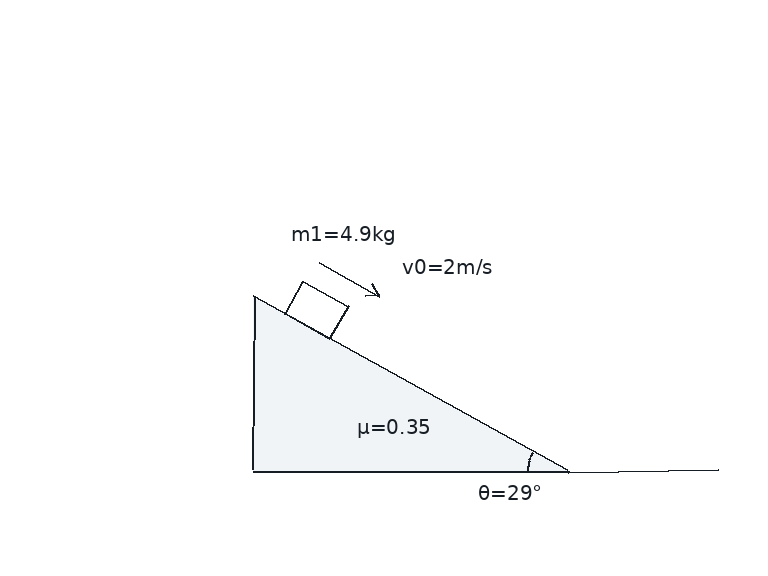block: (283, 279, 349, 341)
ramp: (251, 294, 570, 473)
